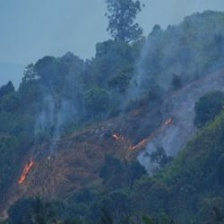fire: (16, 152, 34, 185), (112, 132, 135, 151)
